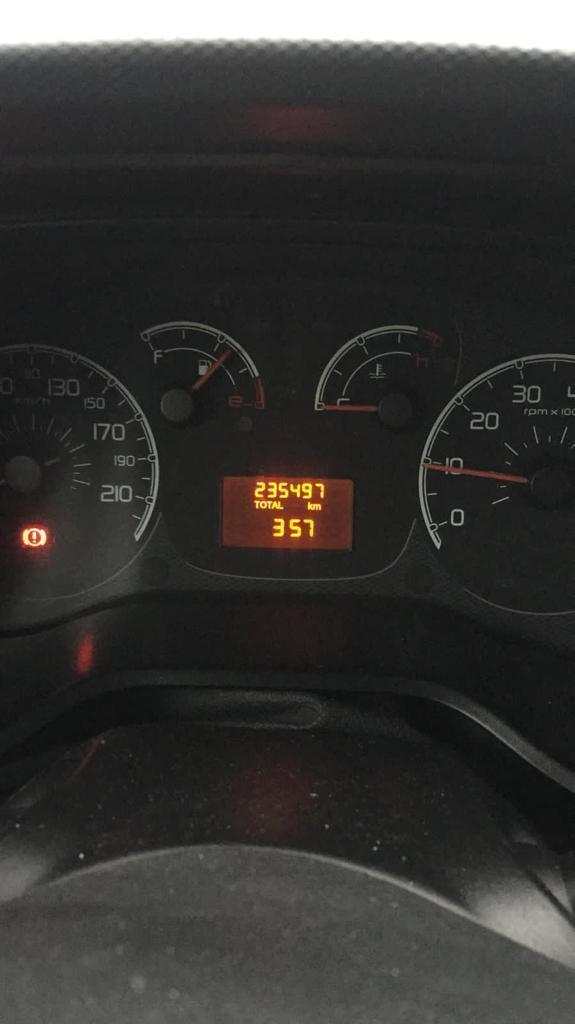2: (255, 480, 265, 497)
3: (272, 517, 284, 537), (266, 481, 277, 499)
4: (289, 482, 300, 499)
5: (289, 517, 301, 537), (277, 481, 289, 499)
7: (302, 518, 315, 538), (314, 481, 326, 500)
9: (302, 481, 312, 499)
X: (312, 503, 322, 510), (278, 500, 285, 510), (272, 500, 278, 509), (266, 500, 272, 509), (260, 500, 266, 508), (307, 501, 312, 510), (254, 500, 259, 509)
odometer: (221, 474, 355, 552)
